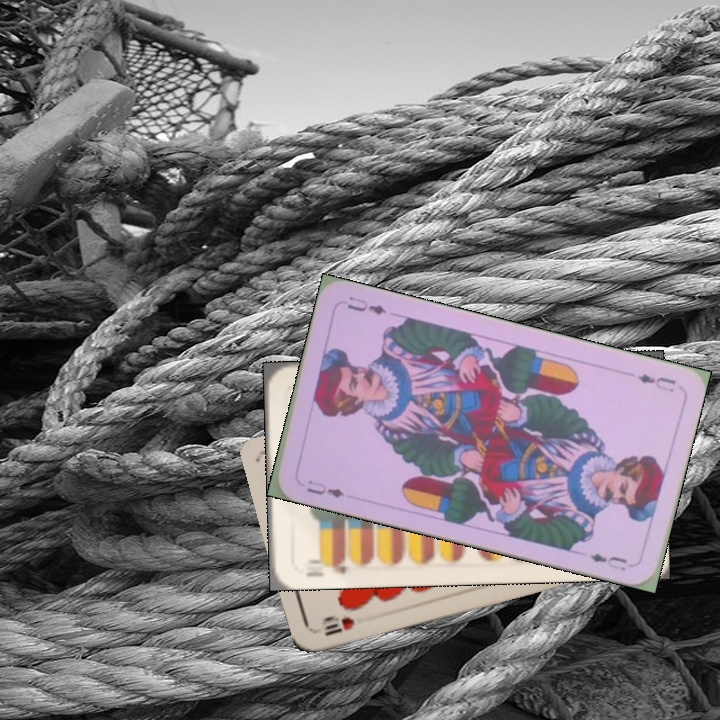E10: (304, 553, 349, 576)
EU: (634, 369, 678, 395), (303, 476, 347, 500)
H10: (320, 613, 358, 639)
